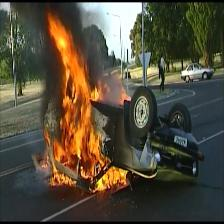fire: (38, 9, 134, 194)
